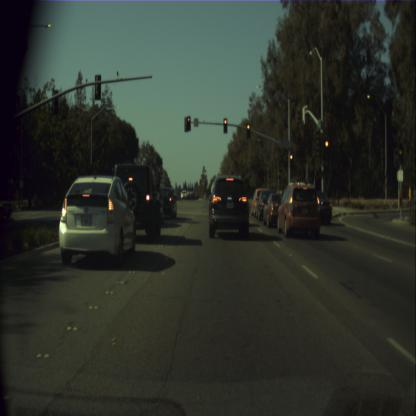Red: (322, 139, 330, 158), (186, 115, 190, 132), (246, 122, 250, 138), (290, 153, 294, 169), (224, 118, 228, 133)
RedRight: (398, 144, 403, 165)
Yellow: (394, 149, 397, 165)
